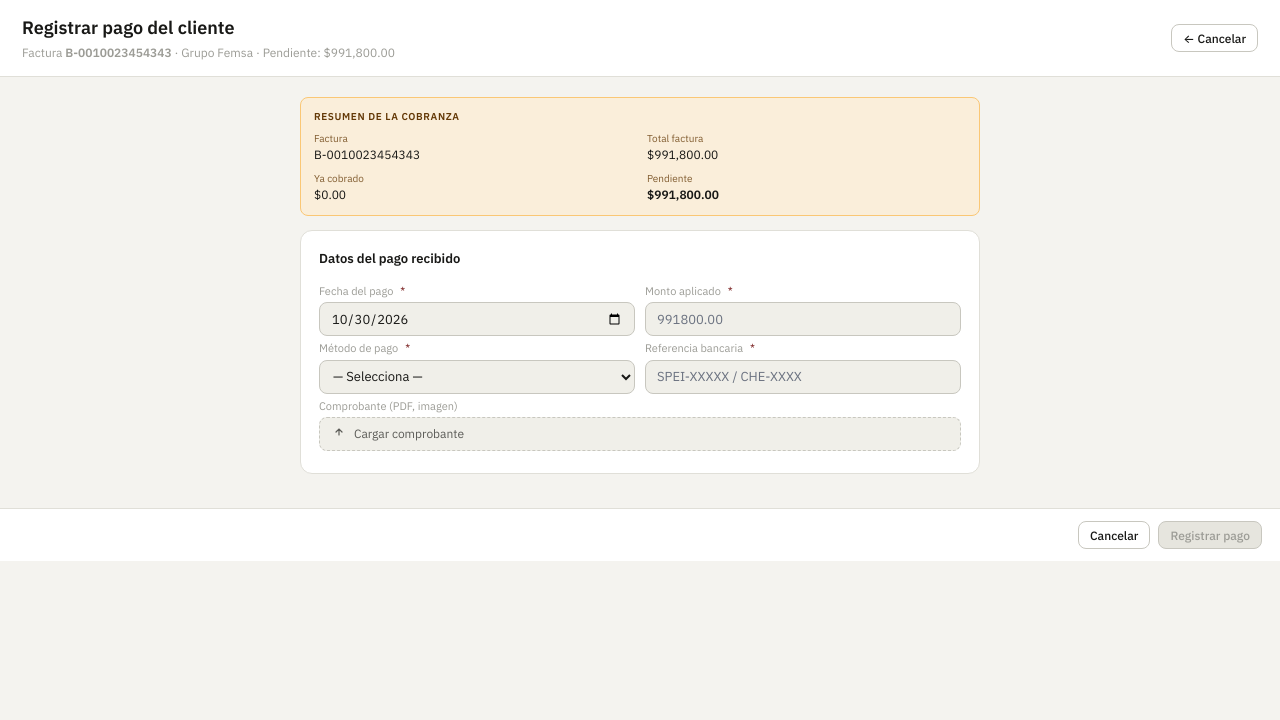
Test: Fix: 'Registrar pago' se deshabilita en vivo en vez de desaparecer › se habilita al completar los 4 campos obligatorios, y vuelve a deshabilitarse si uno se borra
Type "500000" into the field with placeholder "991800.00" at (803, 319), box [645,302,961,336]
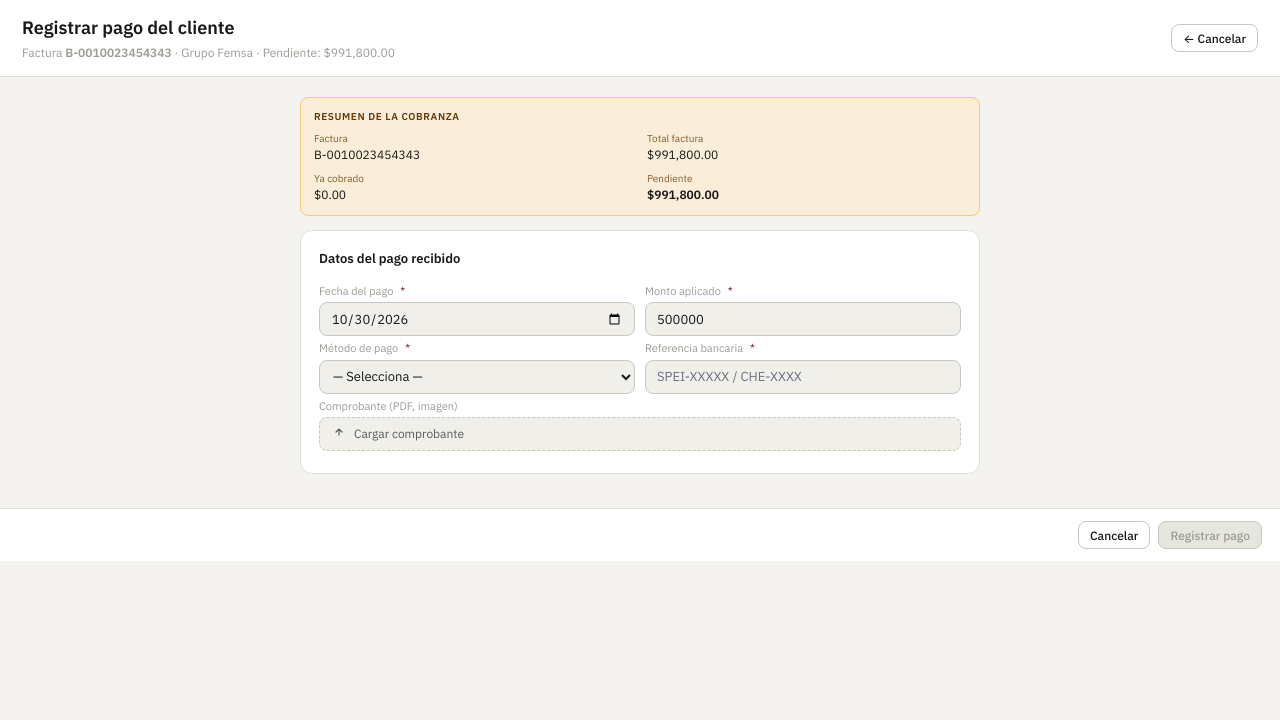
Expected: the button "Registrar pago" is disabled, [1158,521,1262,549]
Select "03 · Transferencia" in the dropdown with class "fsel" at (477, 376), box [319,360,635,394]
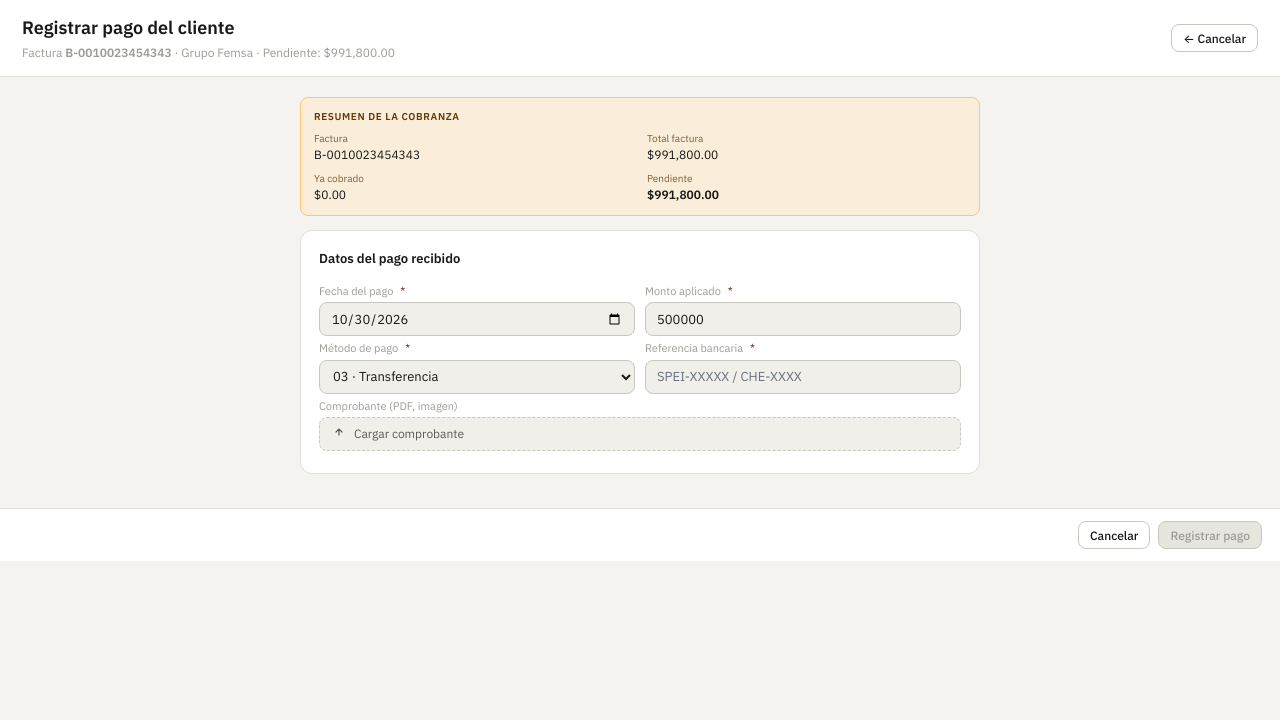
Expected: the button "Registrar pago" is disabled, [1158,521,1262,549]
Type "SPEI-12345678" into the field with placeholder "SPEI-XXXXX / CHE-XXXX" at (803, 376), box [645,360,961,394]
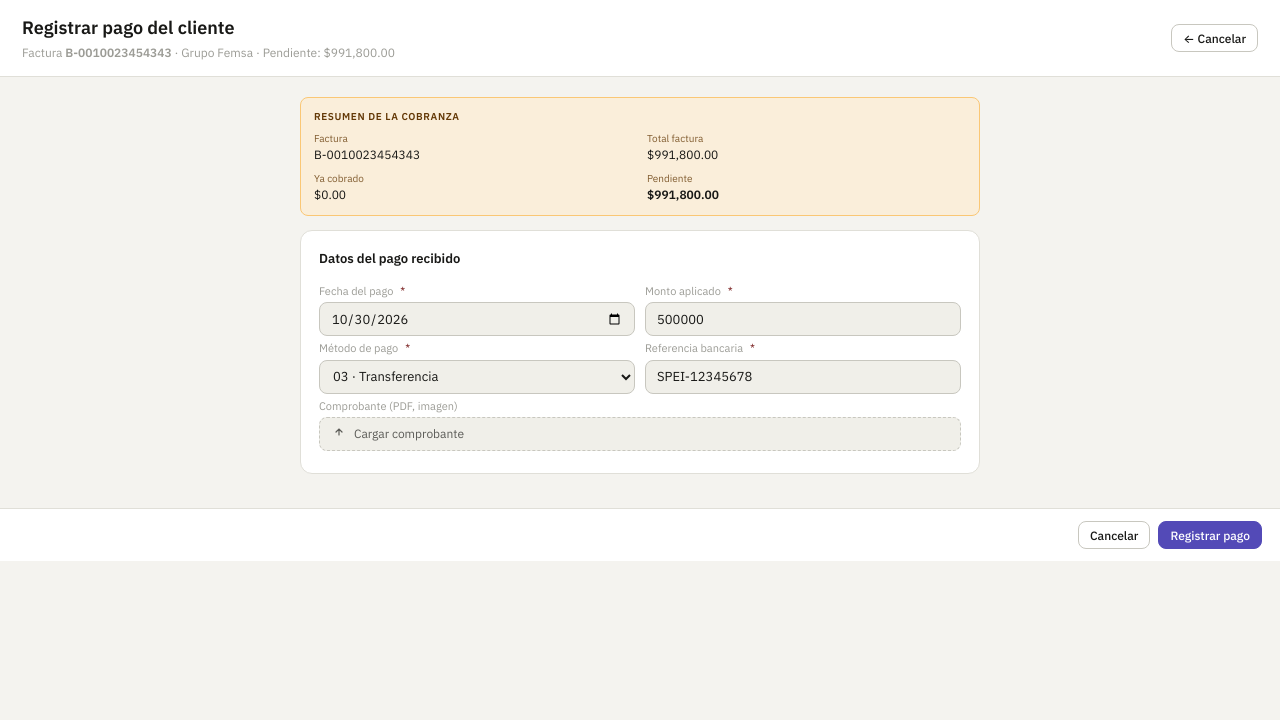
Expected: the button "Registrar pago" is enabled, [1158,521,1262,549]
Borrar un campo ya lleno lo vuelve a deshabilitar — nunca lo oculta.
Clear the field with placeholder "991800.00" below "Monto aplicado" at (803, 319), box [645,302,961,336]
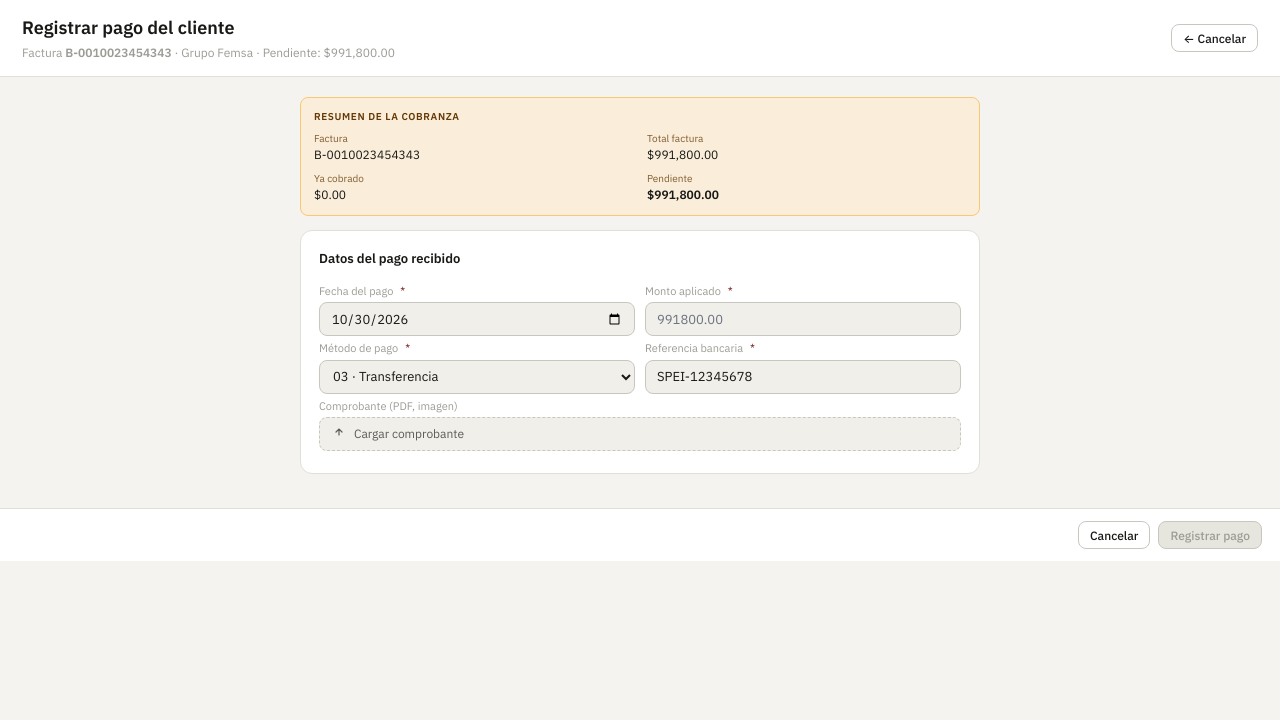
Expected: the button "Registrar pago" is disabled, [1158,521,1262,549]
